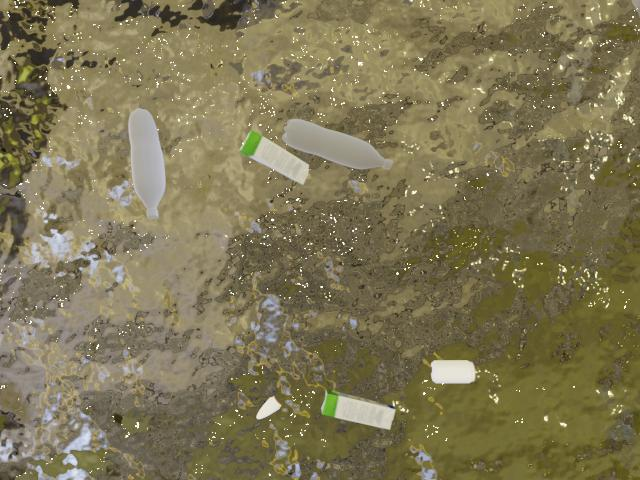Metal: (426, 351, 483, 391)
Plastic: (270, 106, 408, 192), (112, 106, 176, 224)
Trash: (233, 126, 334, 193), (310, 382, 401, 434)
